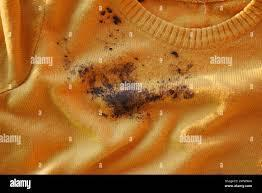earth: (91, 85, 157, 116), (78, 64, 137, 84), (171, 52, 193, 77), (168, 85, 194, 100), (98, 8, 121, 24)
